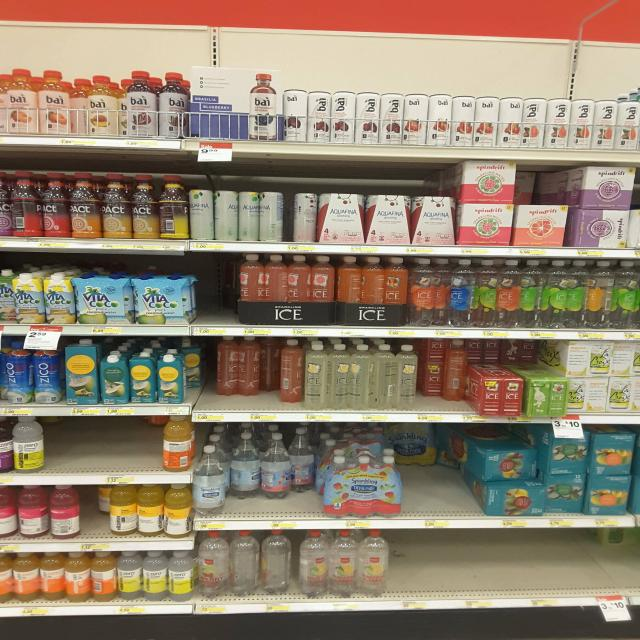empty: (390, 528, 604, 597), (37, 410, 148, 472), (192, 253, 240, 330)
